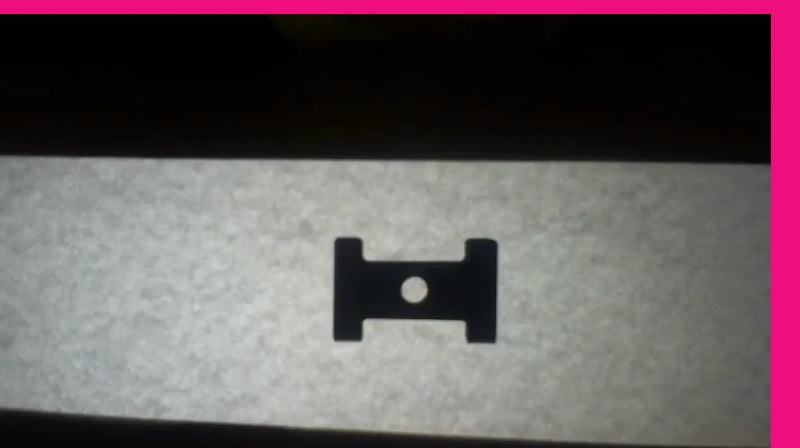O002: (326, 233, 499, 343)
